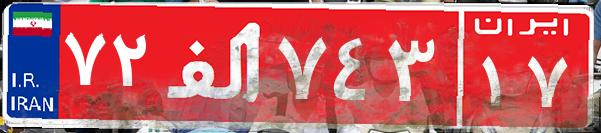1: (475, 38, 525, 113)
2: (110, 28, 158, 105)
3: (385, 28, 445, 110)
4: (330, 28, 385, 110)
7: (273, 28, 330, 110), (57, 26, 110, 107), (525, 38, 570, 115)
الف: (158, 15, 273, 115)
